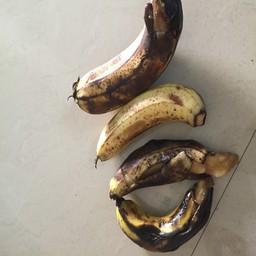Bad_banana: (74, 0, 182, 114), (104, 95, 205, 159)
